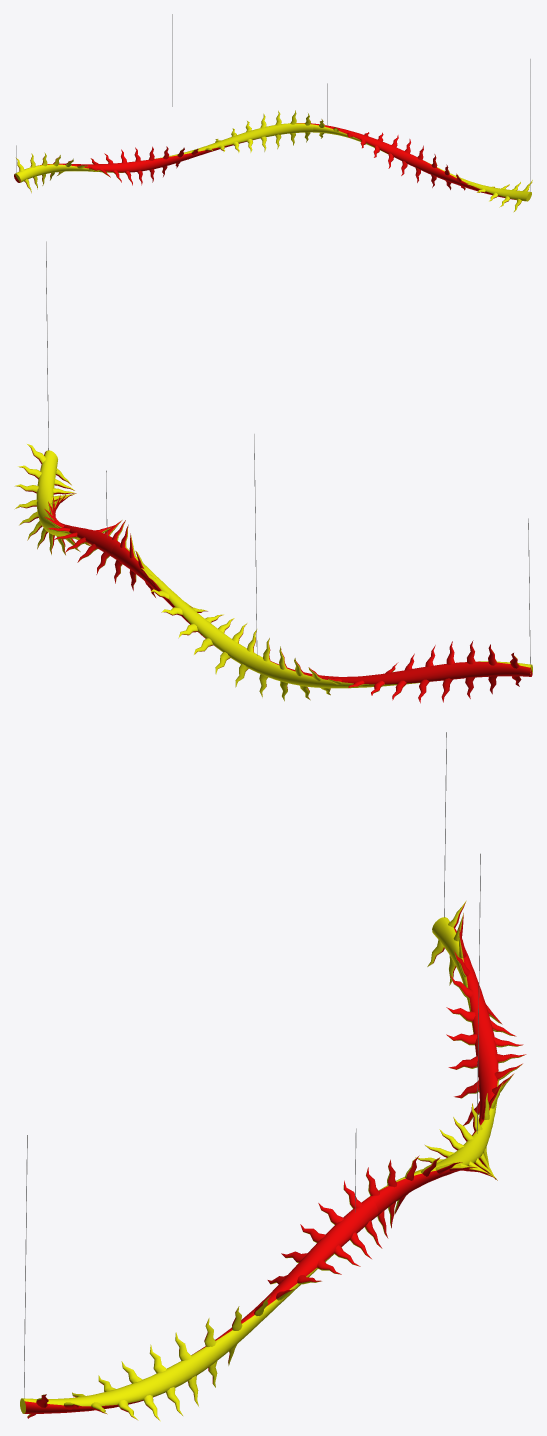
The model's file is Hanging_Spiral_RedYellow.fbx.
3 renders of one model, top to bottom at view 1: azimuth 30°, elevation 25°; view 2: azimuth 150°, elevation 25°; view 3: azimuth 270°, elevation 25°, orthographic. The views are drawn at different scales.
Visible parts, largest first — view 1: Hanging_Detail_Tube_Outer, Hanging_Detail_Spikes_Outer; view 2: Hanging_Detail_Tube_Outer, Hanging_Detail_Spikes_Outer; view 3: Hanging_Detail_Tube_Outer, Hanging_Detail_Spikes_Outer.
Part boxes in pixels (bbox=[...]): Hanging_Detail_Tube_Outer: bbox=[15, 123, 531, 201]; Hanging_Detail_Spikes_Outer: bbox=[14, 110, 532, 212]; Hanging_Detail_Tube_Outer: bbox=[36, 450, 531, 688]; Hanging_Detail_Spikes_Outer: bbox=[15, 444, 532, 703]; Hanging_Detail_Tube_Outer: bbox=[20, 917, 498, 1413]; Hanging_Detail_Spikes_Outer: bbox=[27, 900, 526, 1421].
Size of the model in its own units: 14.68 by 5.89 by 7.7.
